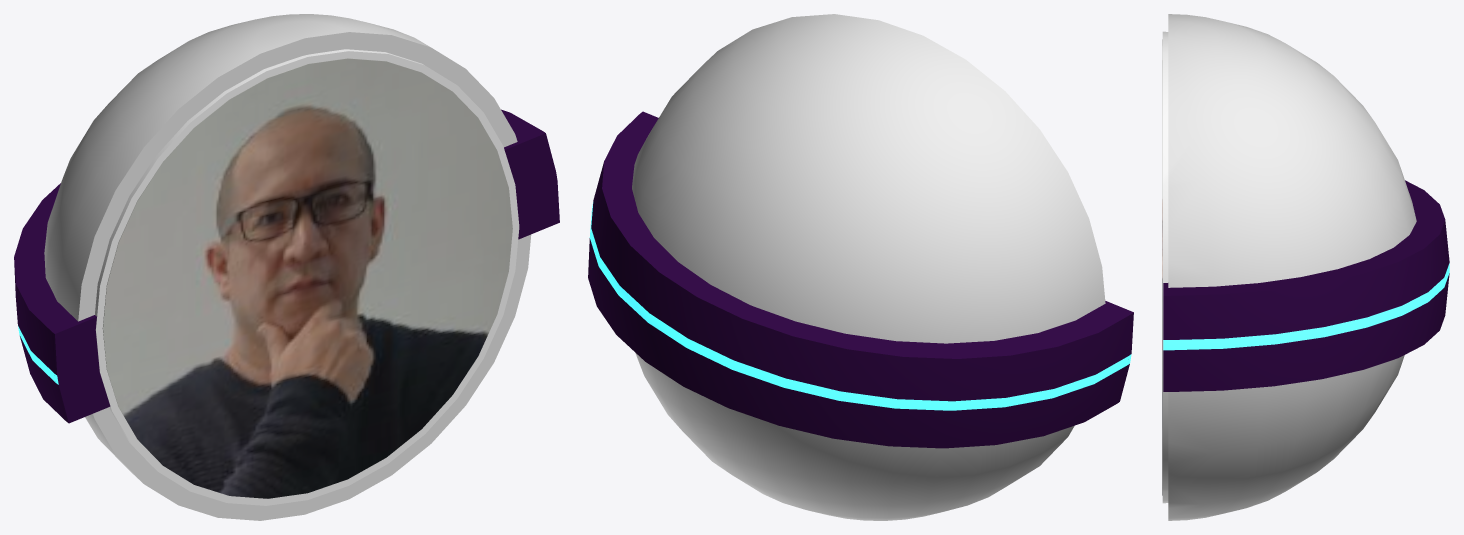
File: id_movil.glb
3 renders of one model, left to right at view 1: azimuth 30°, elevation 25°; view 2: azimuth 150°, elevation 25°; view 3: azimuth 270°, elevation 25°, orthographic. The views are drawn at different scales.
Parts seen in each view (by area): view 1: Sphere.004; view 2: Sphere.004; view 3: Sphere.004.
Part boxes in pixels (x1,y1,x2,y2): Sphere.004: (14,14,559,520); Sphere.004: (588,14,1133,520); Sphere.004: (1162,14,1449,520).
Size of the model in its own units: 1.11 by 1 by 0.5673.
5 materials, 1 textured.
